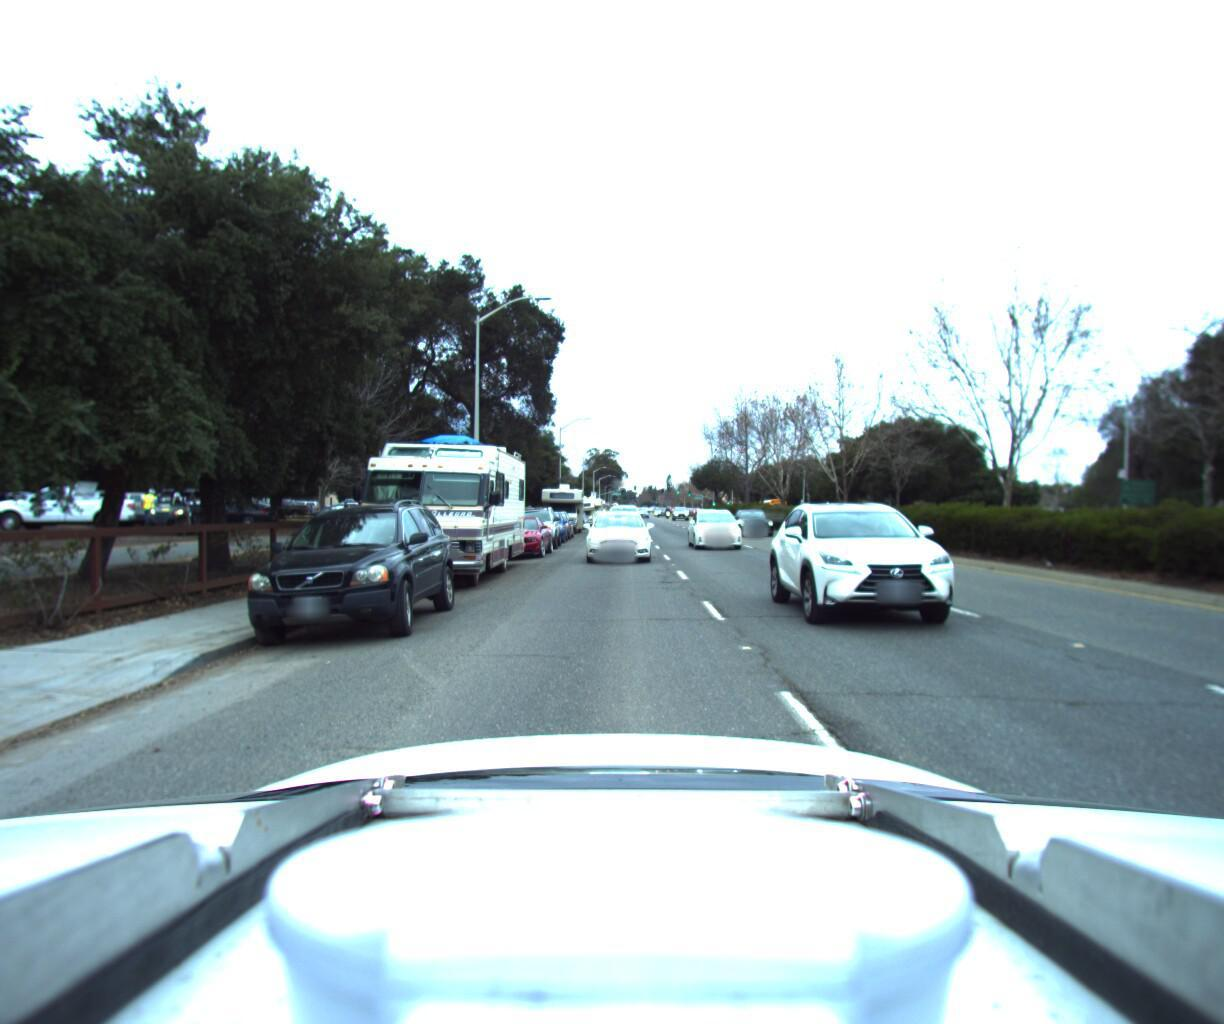car: (217, 483, 461, 652), (779, 490, 1036, 644), (583, 502, 651, 561), (480, 504, 554, 554), (687, 501, 751, 547), (507, 495, 560, 544), (526, 500, 569, 537), (732, 499, 779, 531), (535, 500, 574, 531)
other_vehicle: (345, 402, 527, 592), (536, 471, 584, 527), (566, 485, 596, 520)
